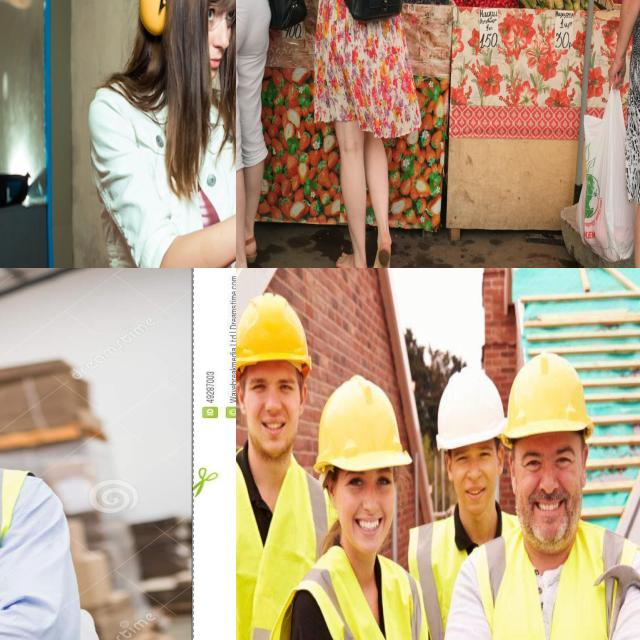Barefoots: (369, 243, 391, 268), (336, 252, 369, 268)
Ear-protection: (133, 0, 236, 107)
No_Ear-Protection: (580, 441, 591, 493), (508, 451, 520, 492), (326, 472, 338, 509), (236, 379, 248, 416), (443, 450, 455, 485), (299, 378, 308, 419), (498, 446, 505, 477)
No_Glasses: (518, 440, 580, 480), (341, 468, 396, 502), (240, 372, 302, 400), (452, 448, 494, 468)
face_nomask: (512, 445, 588, 553), (339, 470, 398, 559), (243, 377, 304, 461), (448, 449, 498, 517)
head_helmet: (312, 372, 413, 472), (503, 352, 595, 438), (236, 292, 311, 376), (436, 365, 506, 448)
person: (0, 275, 138, 640), (78, 0, 236, 268), (493, 353, 640, 640), (308, 375, 433, 640), (236, 291, 312, 640), (413, 369, 514, 607)
vest: (0, 464, 143, 640), (477, 513, 640, 640), (236, 457, 327, 640), (276, 543, 432, 640), (408, 513, 474, 640)
